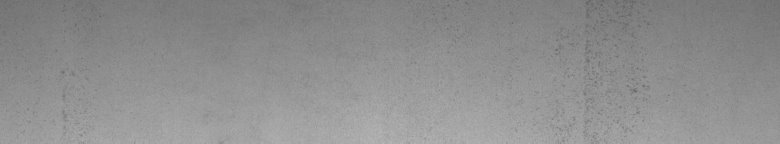ib: (554, 45, 649, 131)
